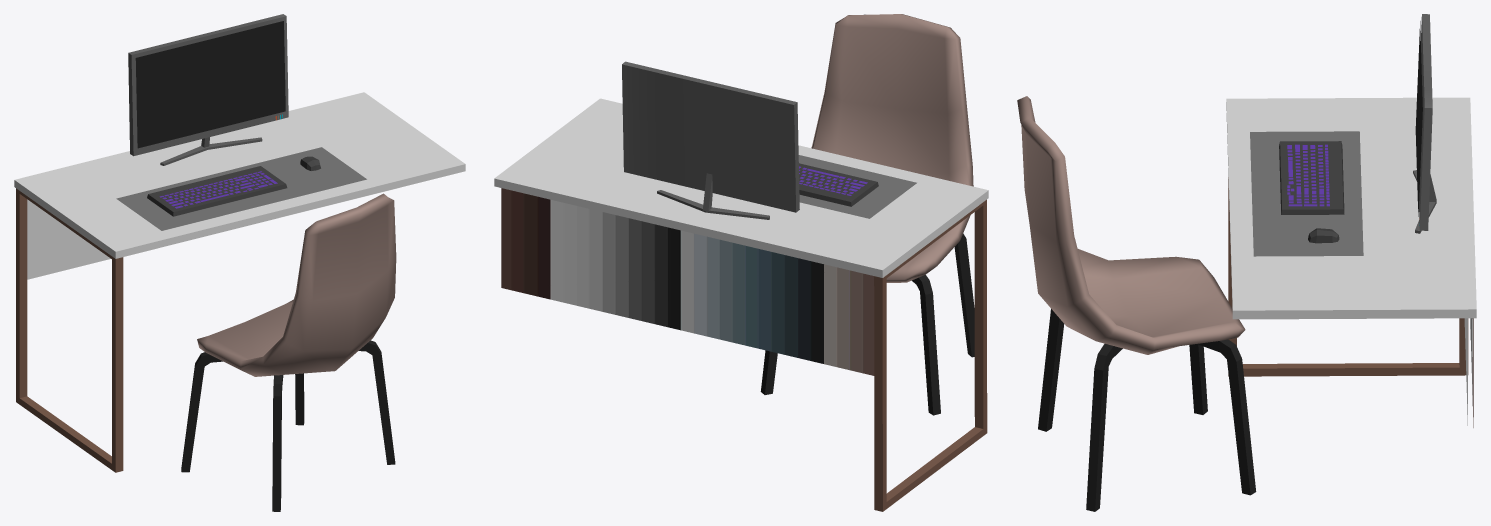
File: GamingSetup1.fbx
The picture shows the model from 3 angles, left to right: view 1: azimuth 30°, elevation 25°; view 2: azimuth 150°, elevation 25°; view 3: azimuth 270°, elevation 25°; orthographic projection. The views are drawn at different scales.
Visible parts, largest first — view 1: GamingSetup1; view 2: GamingSetup1; view 3: GamingSetup1.
Part boxes in pixels (x1,y1,x2,y2): GamingSetup1: [14, 14, 465, 511]; GamingSetup1: [494, 14, 988, 511]; GamingSetup1: [1017, 14, 1476, 511].
Size of the model in its own units: 58.26 by 53.54 by 53.12.
